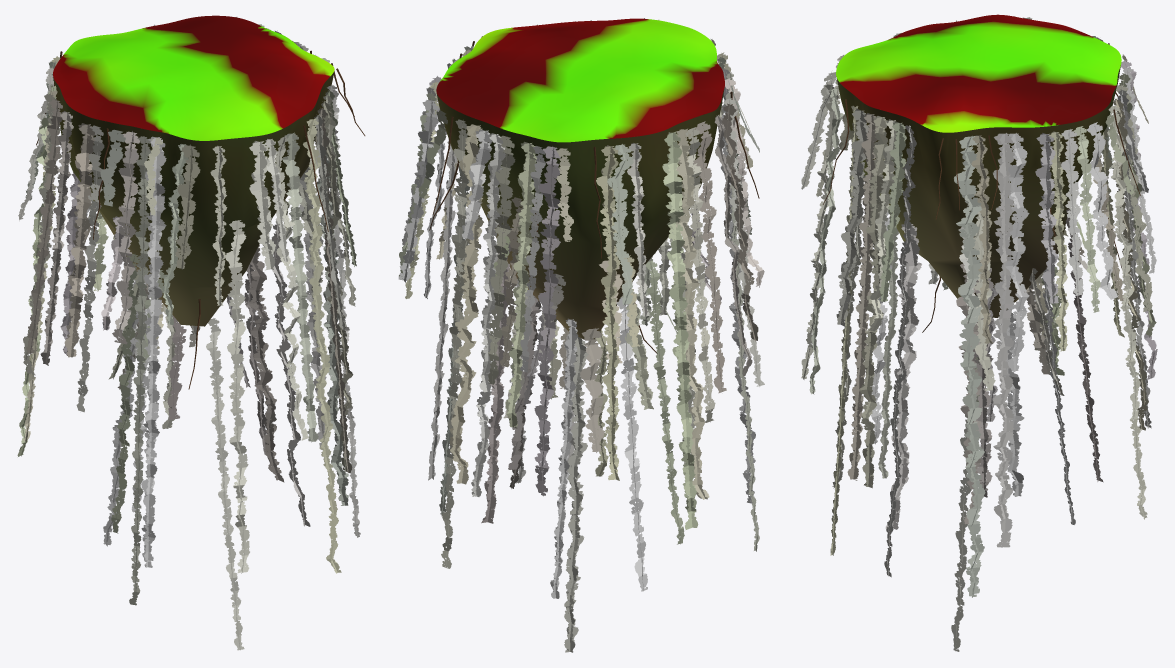
File: SM_H16_Floater04.fbx
3 views of the same model, side by side, from view 1: azimuth 30°, elevation 25°; view 2: azimuth 150°, elevation 25°; view 3: azimuth 270°, elevation 25° (orthographic). The views are drawn at different scales.
Visible parts, largest first — view 1: SM_H16_Floater04_Ivy, SM_H16_Floater04; view 2: SM_H16_Floater04_Ivy, SM_H16_Floater04; view 3: SM_H16_Floater04_Ivy, SM_H16_Floater04.
Boxes of the visible parts, x1,y1,x2,y2 form: SM_H16_Floater04_Ivy: (17, 17, 365, 650); SM_H16_Floater04: (53, 15, 334, 326); SM_H16_Floater04_Ivy: (398, 18, 764, 652); SM_H16_Floater04: (436, 18, 724, 340); SM_H16_Floater04_Ivy: (801, 16, 1157, 651); SM_H16_Floater04: (836, 14, 1121, 317).
Bounding box in the file's own units: 20.82 × 37.39 × 21.49.
